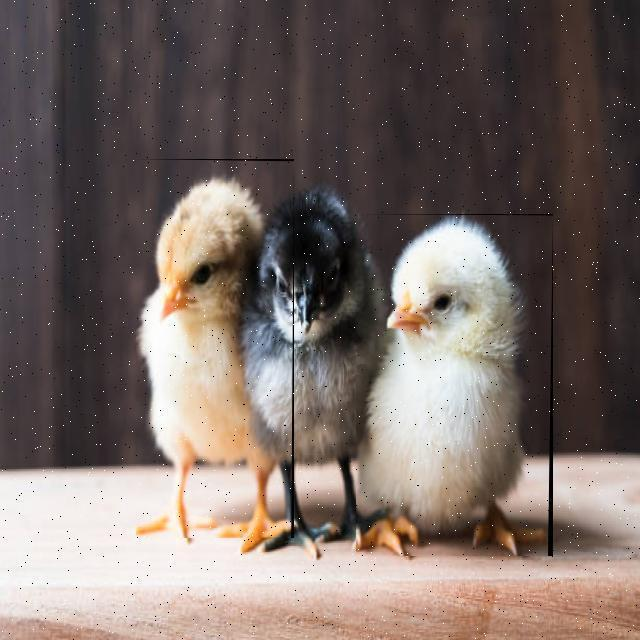poussin: (352, 211, 556, 565), (245, 190, 393, 555), (135, 185, 279, 551)
